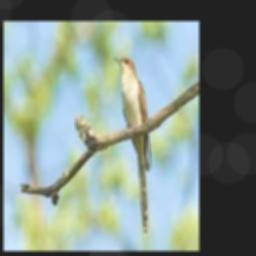Cuckoo: (112, 56, 151, 233)
